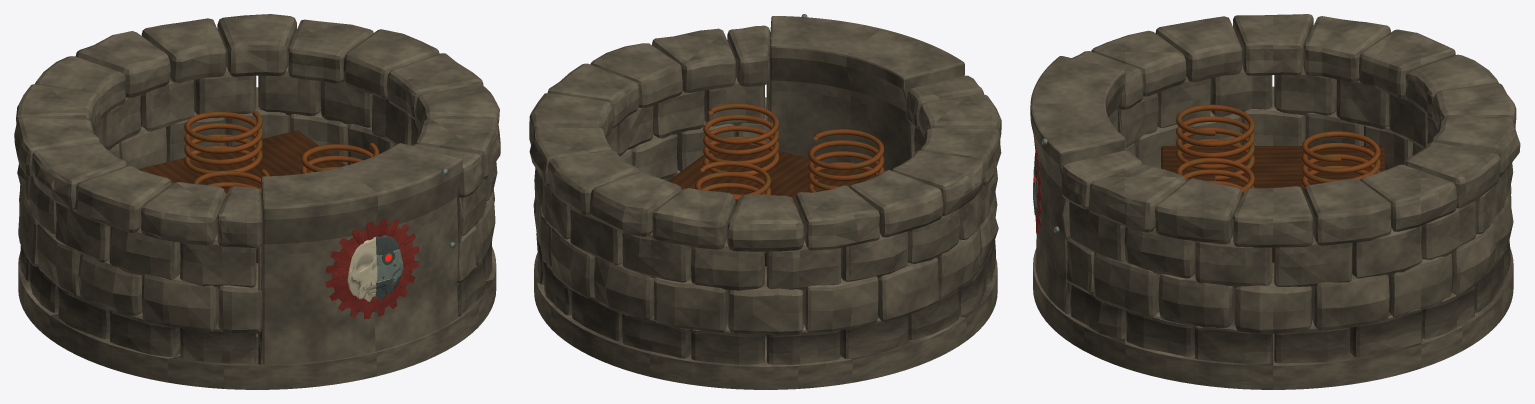
Rendered from filtered-cache-copper-cable-v01.glb.
The picture shows the model from 3 angles, left to right: view 1: azimuth 30°, elevation 25°; view 2: azimuth 150°, elevation 25°; view 3: azimuth 270°, elevation 25°; orthographic projection. The views are drawn at different scales.
Parts seen in each view (by area): view 1: Grounded carved circuit receiving tablet, Continuous grounded rubble footing, Hand-laid course 3 stone 10.0, Hand-laid course 3 stone 02.0, Stock | timber dunnage, Hand-laid course 3 stone 09.0, Cache centered emblem | Mars emblem | twenty tooth cog surro, Hand-laid course 3 stone 03.0, Hand-laid course 3 stone 01.0, Hand-laid course 1 stone 10.0, Hand-laid course 3 stone 00.0, Hand-laid course 3 stone 08.0 (+41 smaller); view 2: Grounded carved circuit receiving tablet, Continuous grounded rubble footing, Hand-laid course 3 stone 06.0, Stock | timber dunnage, Hand-laid course 3 stone 04.0, Hand-laid course 3 stone 05.0, Hand-laid course 3 stone 07.0, Hand-laid course 3 stone 03.0, Hand-laid course 3 stone 15.0, Hand-laid course 1 stone 06.0, Hand-laid course 1 stone 05.0, Hand-laid course 1 stone 04.0 (+40 smaller); view 3: Continuous grounded rubble footing, Grounded carved circuit receiving tablet, Hand-laid course 3 stone 00.0, Stock | timber dunnage, Hand-laid course 3 stone 17.0, Hand-laid course 3 stone 16.0, Hand-laid course 3 stone 15.0, Hand-laid course 3 stone 08.0, Hand-laid course 3 stone 01.0, Hand-laid course 3 stone 07.0, Hand-laid course 3 stone 09.0, Hand-laid course 3 stone 06.0 (+43 smaller).
Part boxes in pixels (x1,y1,x2,y2): Grounded carved circuit receiving tablet: [261, 143, 462, 364]; Continuous grounded rubble footing: [18, 247, 496, 389]; Hand-laid course 3 stone 10.0: [141, 182, 226, 245]; Hand-laid course 3 stone 02.0: [217, 14, 296, 76]; Stock | timber dunnage: [138, 130, 345, 263]; Hand-laid course 3 stone 09.0: [75, 166, 171, 232]; Cache centered emblem | Mars emblem | twenty tooth cog surro: [325, 219, 419, 318]; Hand-laid course 3 stone 03.0: [141, 18, 226, 82]; Hand-laid course 3 stone 01.0: [288, 19, 373, 83]; Hand-laid course 1 stone 10.0: [141, 274, 218, 331]; Hand-laid course 3 stone 00.0: [343, 29, 439, 99]; Hand-laid course 3 stone 08.0: [31, 143, 126, 210]; Grounded carved circuit receiving tablet: [769, 16, 964, 171]; Continuous grounded rubble footing: [534, 253, 997, 389]; Hand-laid course 3 stone 06.0: [795, 185, 879, 250]; Stock | timber dunnage: [668, 143, 874, 266]; Hand-laid course 3 stone 04.0: [652, 188, 735, 249]; Hand-laid course 3 stone 05.0: [727, 194, 804, 251]; Hand-laid course 3 stone 07.0: [849, 170, 943, 237]; Hand-laid course 3 stone 03.0: [589, 171, 681, 236]; Hand-laid course 3 stone 15.0: [652, 28, 735, 92]; Hand-laid course 1 stone 06.0: [802, 276, 878, 332]; Hand-laid course 1 stone 05.0: [728, 266, 803, 335]; Hand-laid course 1 stone 04.0: [654, 277, 728, 332]; Continuous grounded rubble footing: [1033, 249, 1513, 389]; Grounded carved circuit receiving tablet: [1030, 56, 1125, 311]; Hand-laid course 3 stone 00.0: [1304, 178, 1391, 245]; Stock | timber dunnage: [1161, 146, 1385, 262]; Hand-laid course 3 stone 17.0: [1233, 186, 1313, 247]; Hand-laid course 3 stone 16.0: [1155, 178, 1241, 244]; Hand-laid course 3 stone 15.0: [1088, 164, 1186, 232]; Hand-laid course 3 stone 08.0: [1233, 14, 1313, 75]; Hand-laid course 3 stone 01.0: [1360, 164, 1457, 231]; Hand-laid course 3 stone 07.0: [1304, 16, 1390, 82]; Hand-laid course 3 stone 09.0: [1155, 16, 1242, 82]; Hand-laid course 3 stone 06.0: [1359, 29, 1455, 98].
Size of the model in its own units: 1.96 by 0.8159 by 1.95.
Materials: 13 (12 with a texture image).
